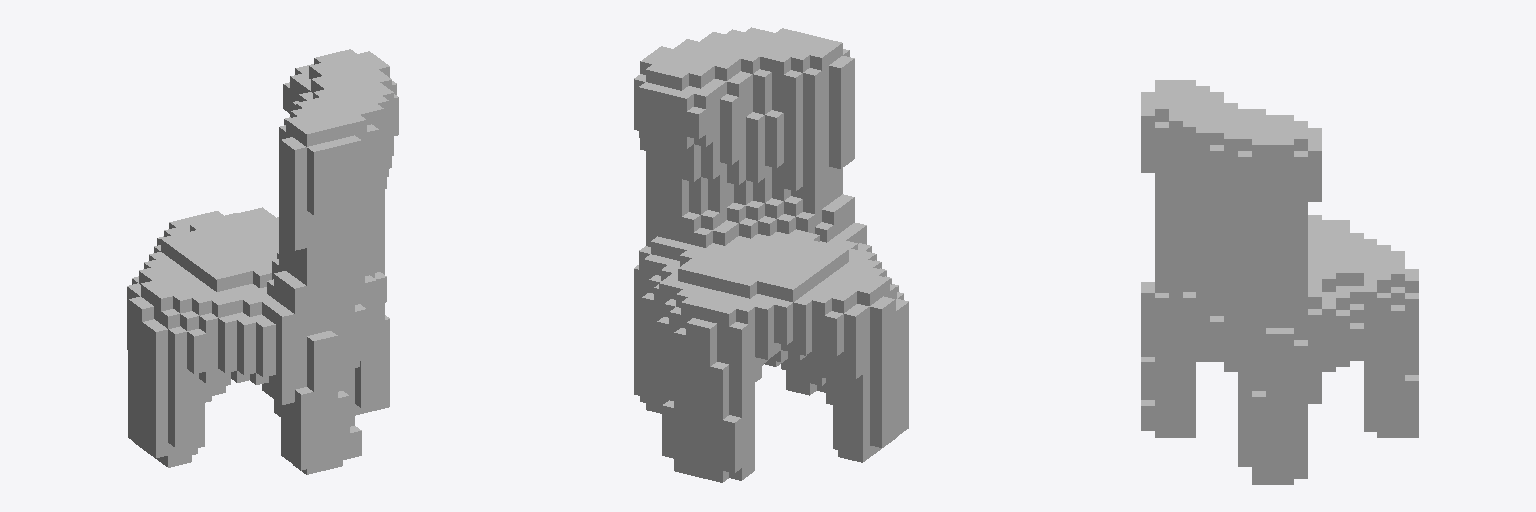
File: opaque_pred.obj
The picture shows the model from 3 angles: view 1: azimuth 30°, elevation 25°; view 2: azimuth 150°, elevation 25°; view 3: azimuth 270°, elevation 25°; orthographic projection.
Size of the model in its own units: 0.625 by 0.8438 by 0.625.